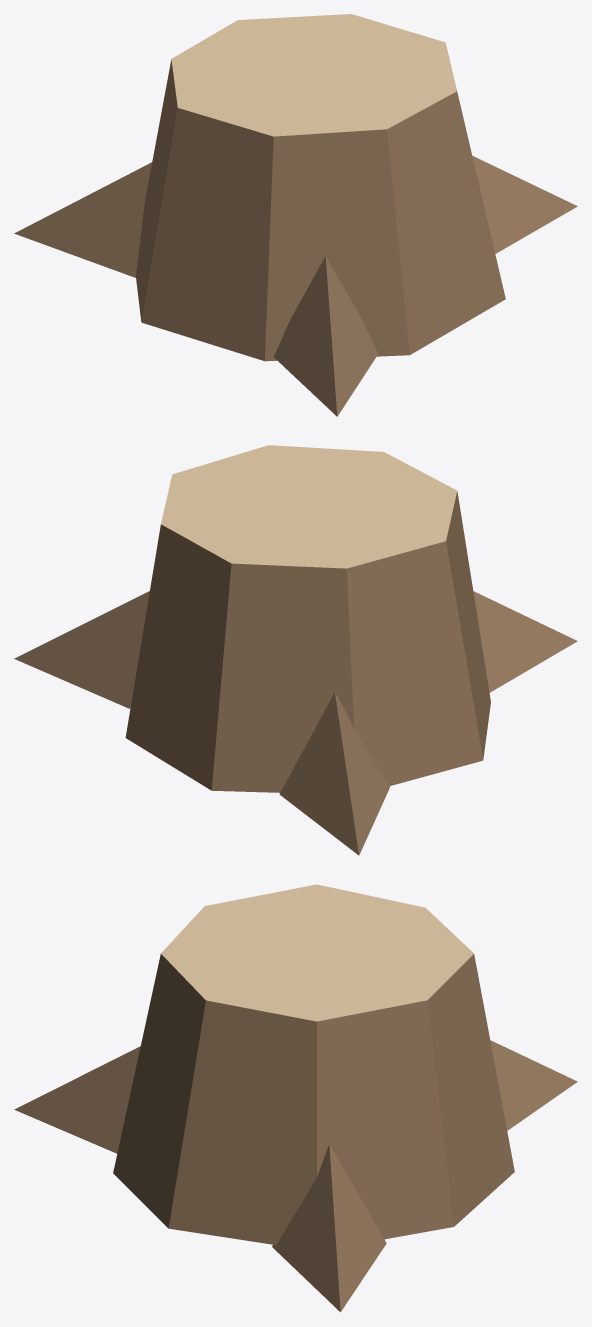
Rendered from Tree_Stump.fbx.
3 views of the same model, one above another, from view 1: azimuth 30°, elevation 25°; view 2: azimuth 150°, elevation 25°; view 3: azimuth 270°, elevation 25° (orthographic). The views are drawn at different scales.
Parts seen in each view (by area): view 1: Tree_Stump; view 2: Tree_Stump; view 3: Tree_Stump.
Boxes of the visible parts, box(x1,y1,x2,y2) form: Tree_Stump: box(14, 14, 577, 416); Tree_Stump: box(14, 445, 577, 855); Tree_Stump: box(14, 884, 577, 1312).
Bounding box in the file's own units: 1.71 × 0.7628 × 1.76.
